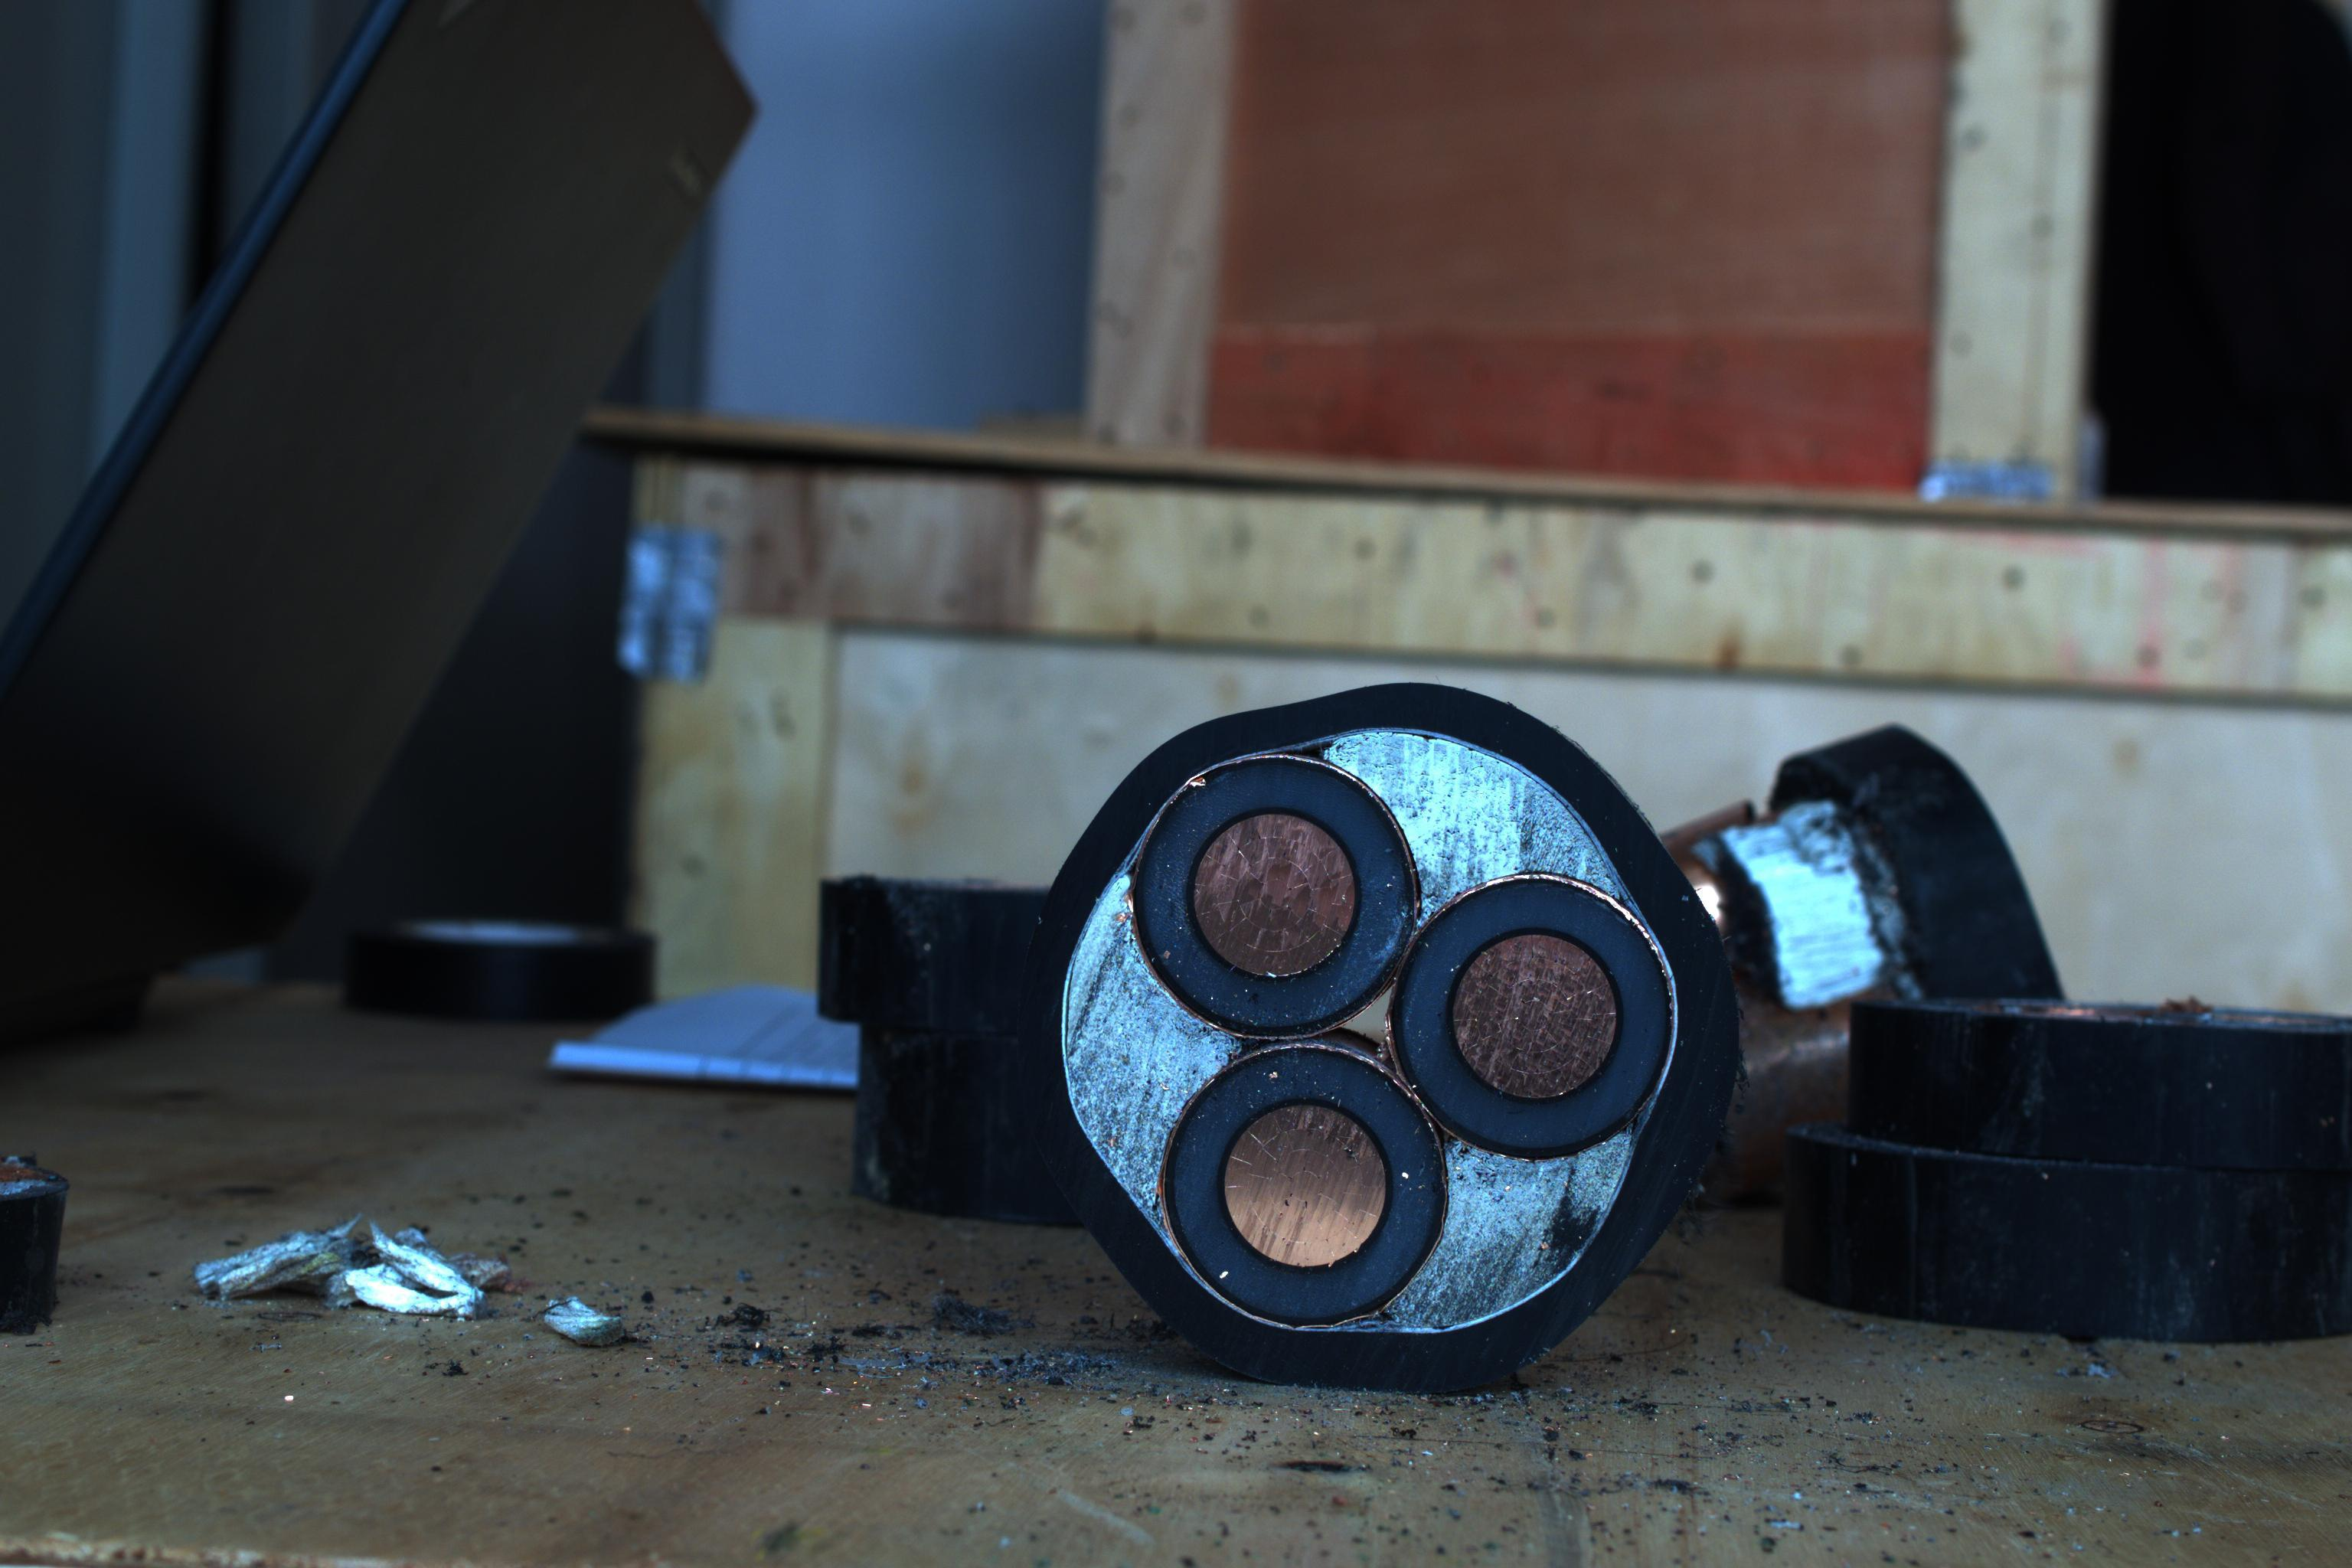ZA_YJV_8.7_10kV_3x240: (1053, 677, 1722, 1389)
